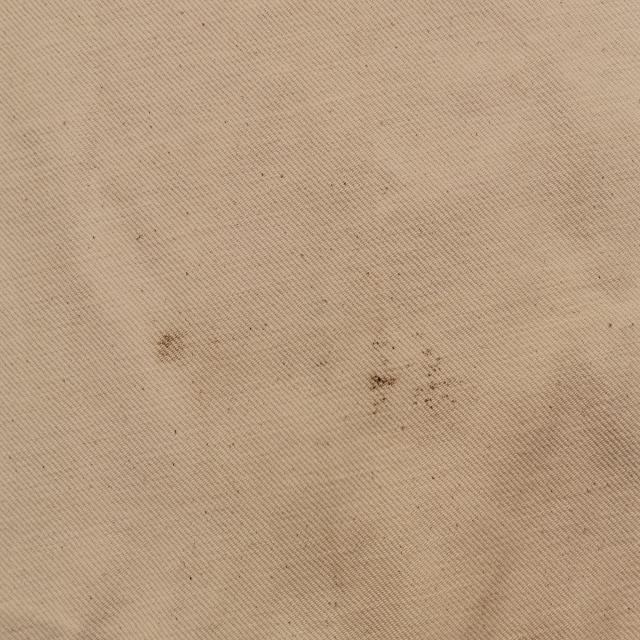taaaches: (361, 330, 462, 441), (147, 306, 189, 379)
